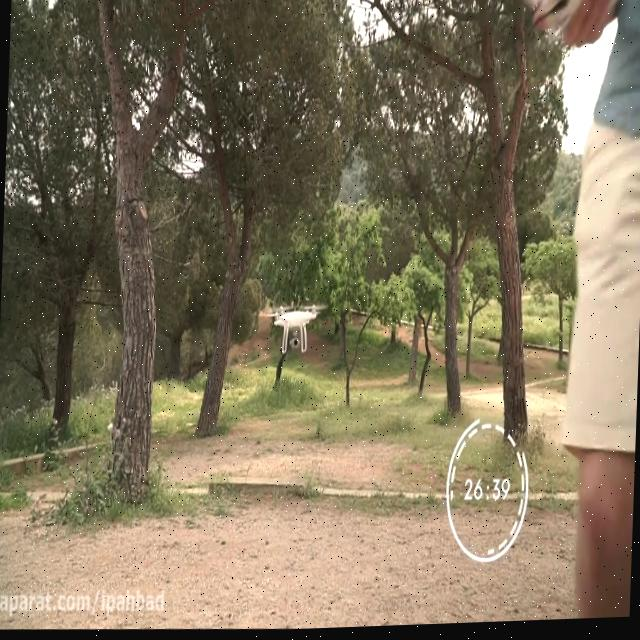drone: (268, 297, 330, 361)
